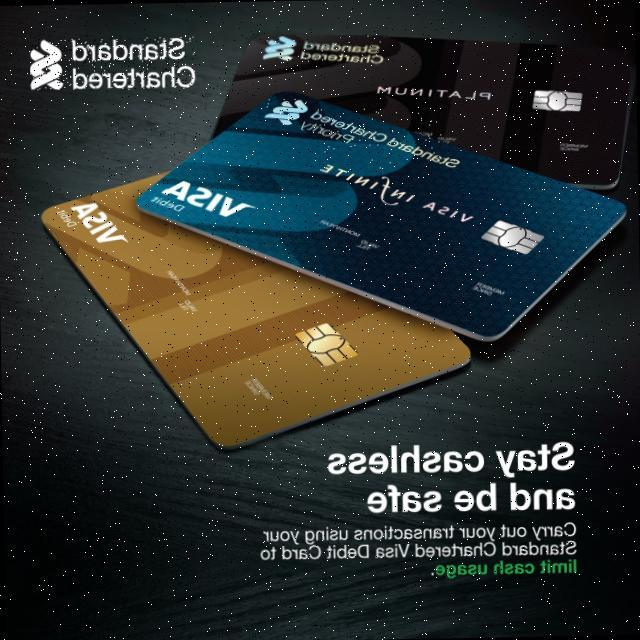Standard Chartered: (310, 107, 462, 170), (29, 36, 196, 91), (263, 35, 384, 67), (265, 97, 307, 126)
